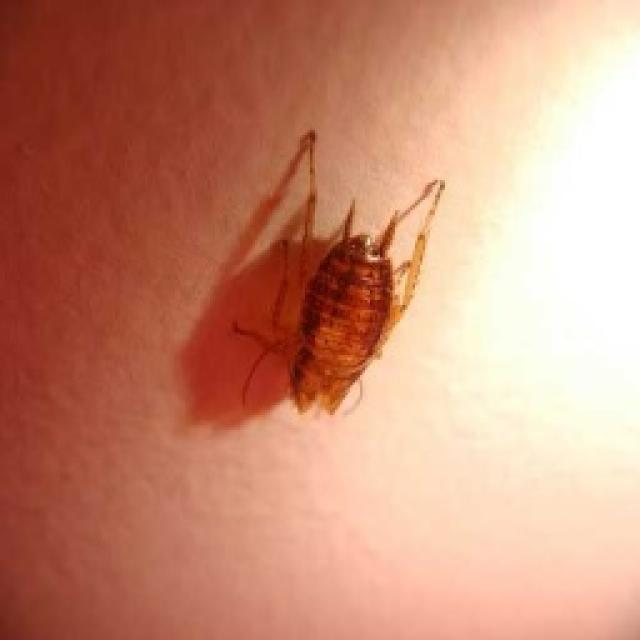cockroach: (222, 155, 456, 459)
